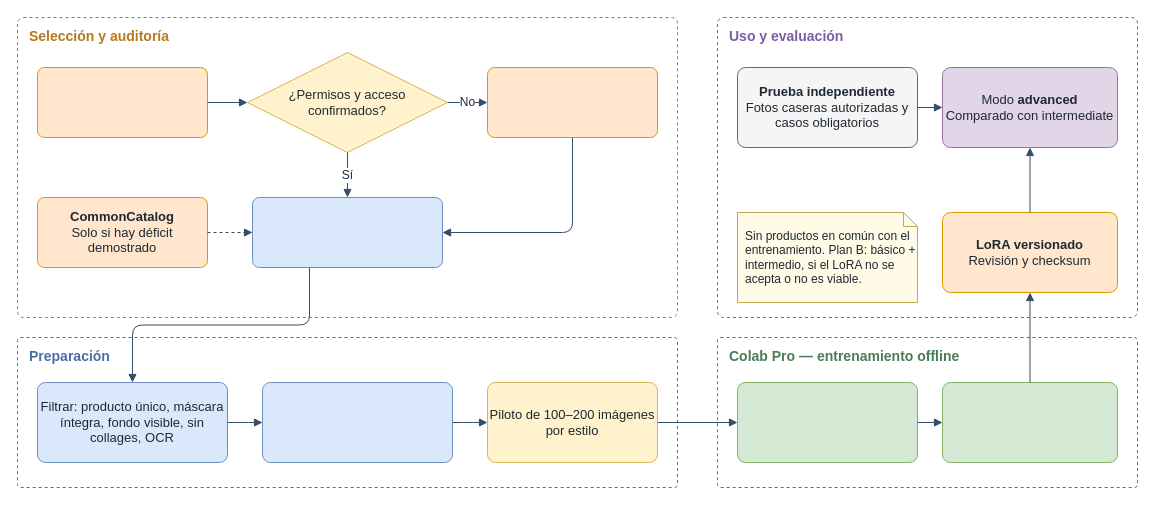
This 1155x505 diagram has some shape labels left out. Here are the shapes that lost their labels. From the top down, the centre of each, then its label:
the point at 122,102: BG60k Candidato principal
the point at 572,102: ABO + CommonCatalog Alternativa
the point at 347,232: Muestra estratificada Cobertura por estilo
the point at 357,422: Rúbrica de estilos y captions con BLIP y plantilla, revisados a mano
the point at 827,422: Prueba corta sobre SDXL base: entrenar, exportar, recargar e inferir
the point at 1030,422: Entrenamiento de un LoRA con checkpoints reanudables
